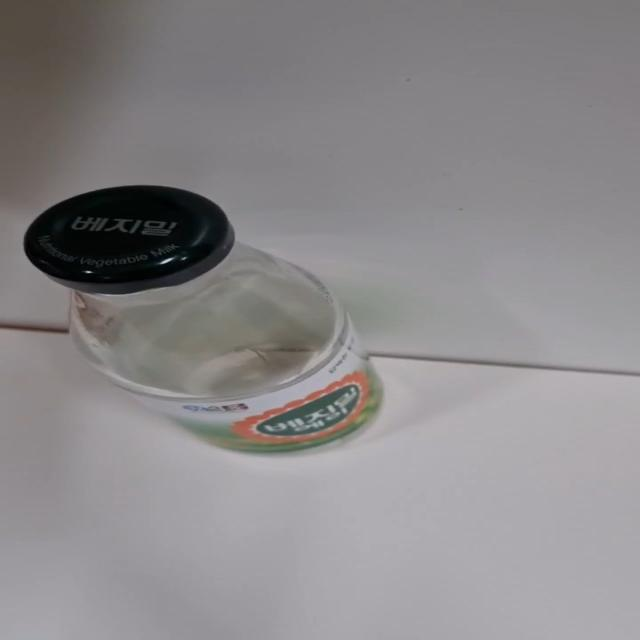Glass: (22, 182, 390, 459)
